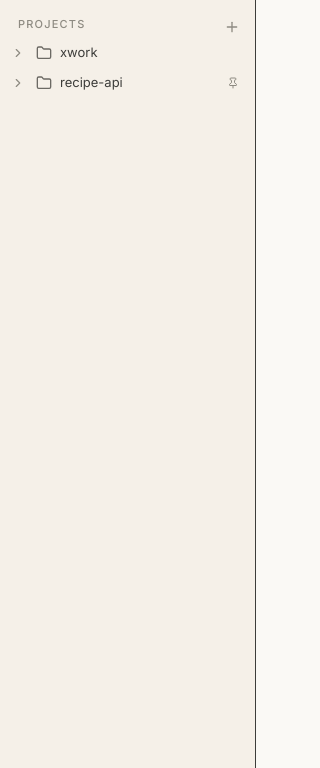
it: SidebarProjectList session composition › expands each project independently
Expected: the link "xwork" is shown, [36, 44, 98, 60]
Click the button named "Sessions for xwork".
click(18, 52)  # box [8, 42, 28, 62]
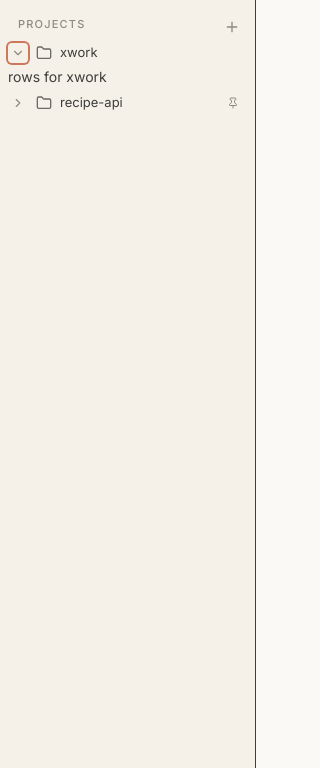
Result: the text "rows for xwork" is shown at [8, 68, 107, 84]
